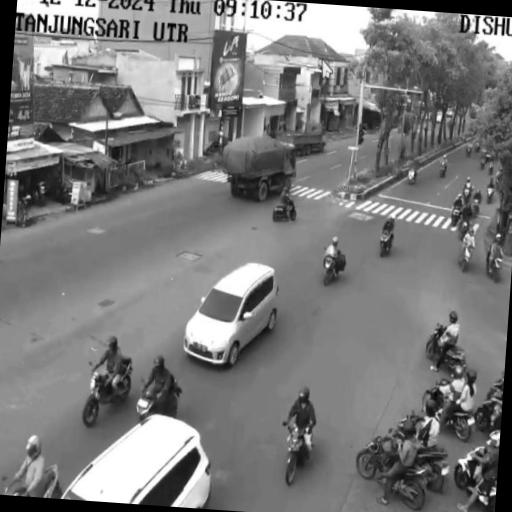car: (63, 415, 211, 508), (184, 263, 278, 366)
motorcycle: (82, 358, 132, 427), (137, 376, 181, 420), (425, 325, 466, 372), (357, 429, 394, 479), (356, 429, 393, 479), (475, 372, 504, 431), (392, 464, 429, 510), (416, 446, 449, 492), (285, 423, 309, 486), (454, 447, 486, 492), (475, 391, 502, 431), (442, 412, 475, 442), (422, 379, 449, 411), (422, 380, 447, 411), (42, 465, 62, 498), (323, 246, 338, 285), (273, 200, 296, 222), (487, 371, 504, 399), (17, 195, 31, 227), (487, 257, 502, 283), (460, 246, 473, 272), (380, 232, 392, 257), (36, 181, 46, 205), (458, 220, 469, 240), (451, 208, 461, 227), (463, 186, 472, 203), (472, 198, 480, 217), (408, 169, 417, 185), (487, 187, 493, 203), (439, 165, 446, 177), (485, 152, 492, 163), (480, 159, 486, 169), (489, 164, 494, 175), (467, 147, 471, 157), (475, 143, 479, 152)
truck: (222, 136, 296, 201), (276, 122, 325, 155)
